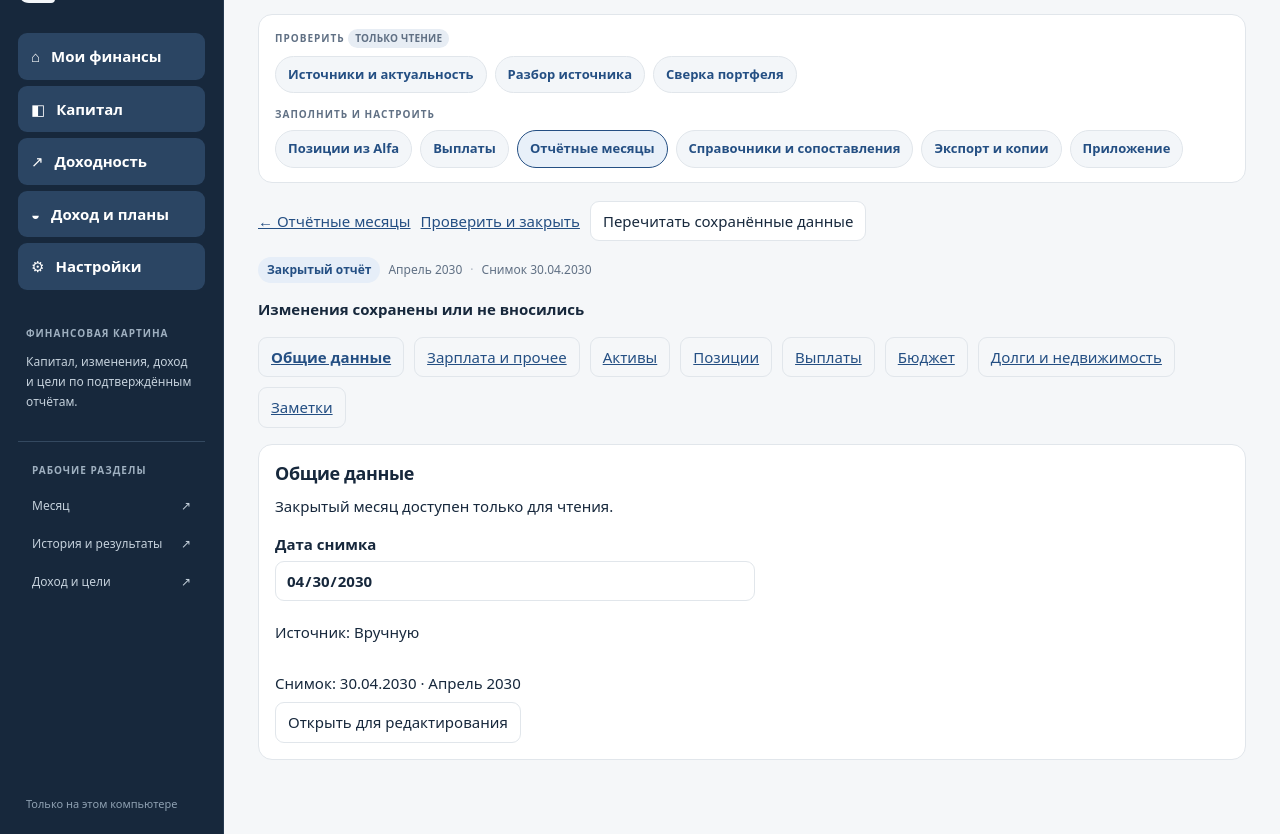
native month editor frame › does not unlock a month on failed reopen
(page scrolled)
Expected: the element named "Общие данные месяца" is shown, [258,444,1246,760]
Click the button "Открыть для редактирования".
click(398, 723)  # box [275,702,521,743]
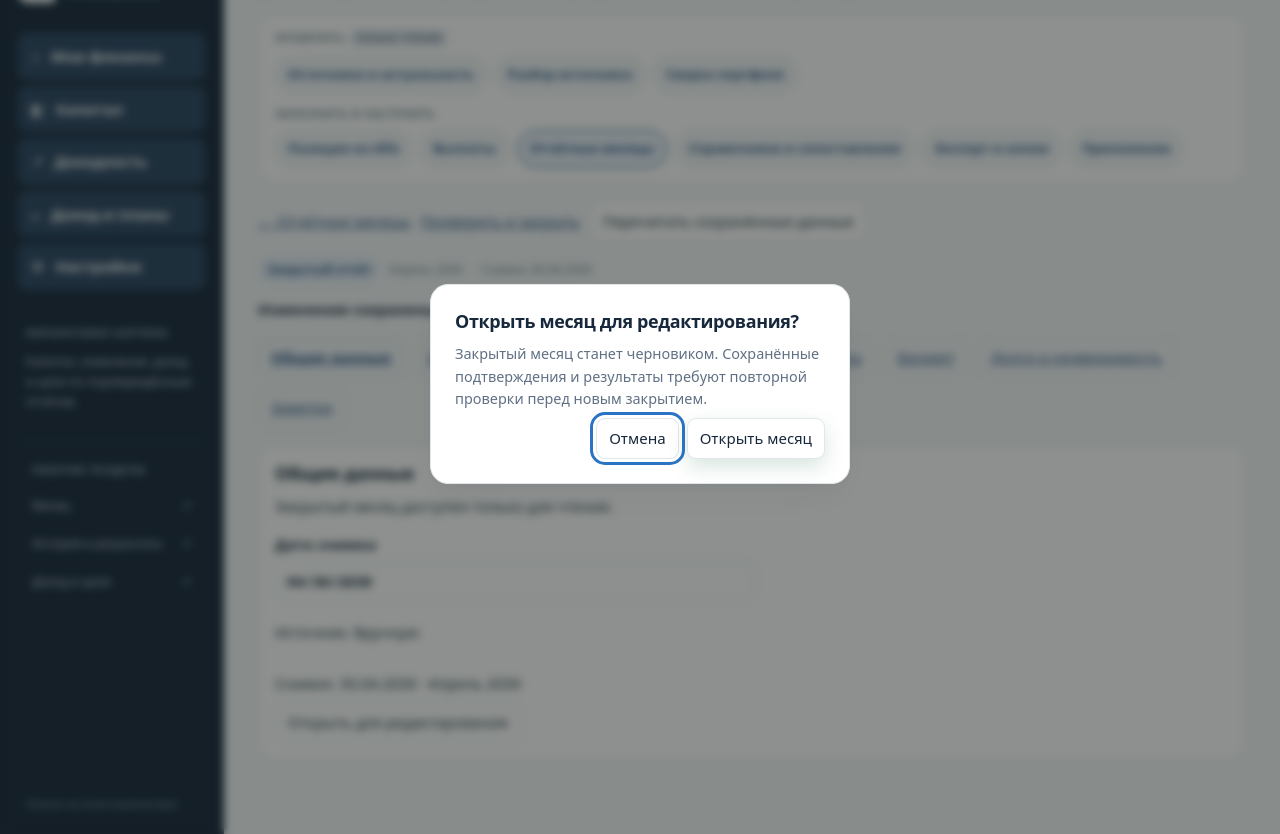
Click the button "Открыть месяц".
click(756, 439)  # box [687,418,825,459]
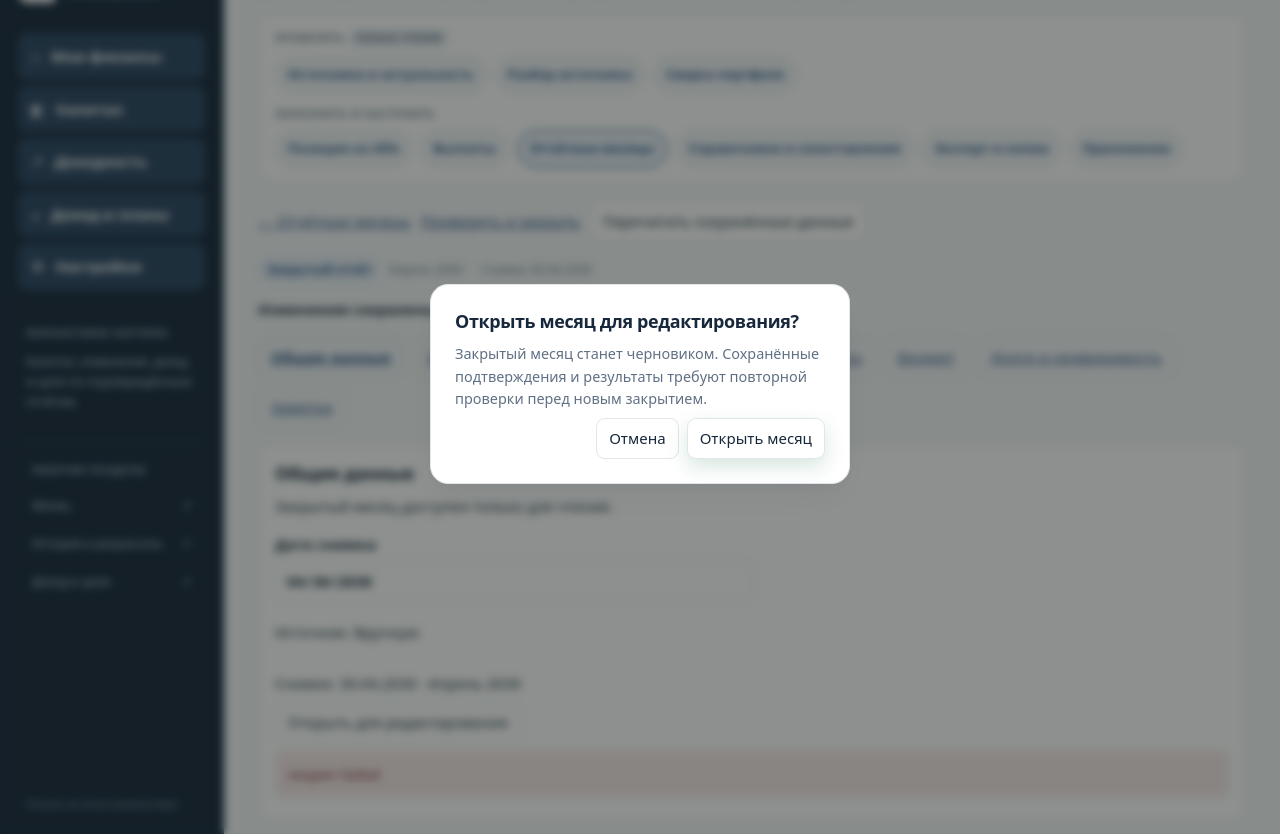
Expected: the date field labelled "Дата снимка" is disabled, [275,561,755,601]
Now the text "reopen failed" is shown, box [275,751,1229,797]
